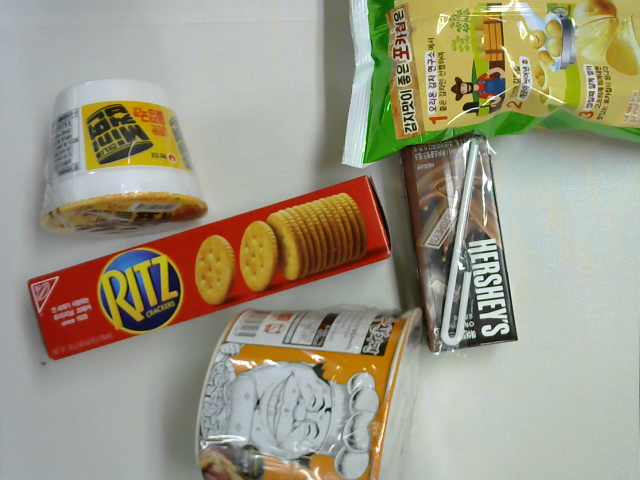Hejangchan: (186, 301, 427, 480)
Hejangmini: (39, 78, 208, 249)
Hush_Choco_Drink: (398, 132, 519, 356)
Pocachip_Onion: (338, 1, 639, 171)
Ritz_Cracker: (24, 171, 393, 367)
